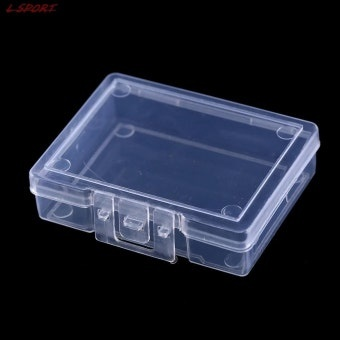plastic: (30, 72, 320, 278)
